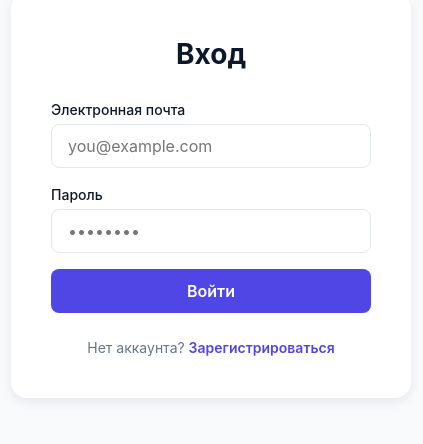
Test case: Login page › shows error message on invalid credentials
The width and height of the screenshot is (423, 444).
Type "test@test.com" into the field labelled "Электронная почта". click: [211, 146]
box: [51, 124, 371, 168]
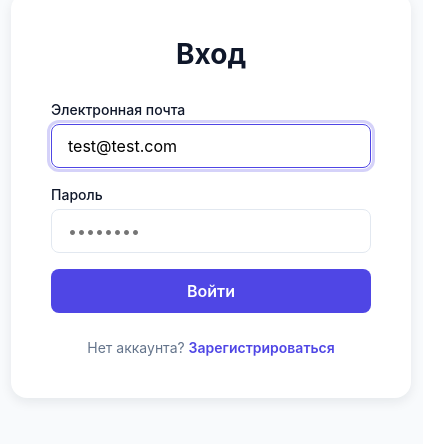
Type "wrongpass" into the password field labelled "Пароль". click: [211, 230]
box: [51, 208, 371, 252]
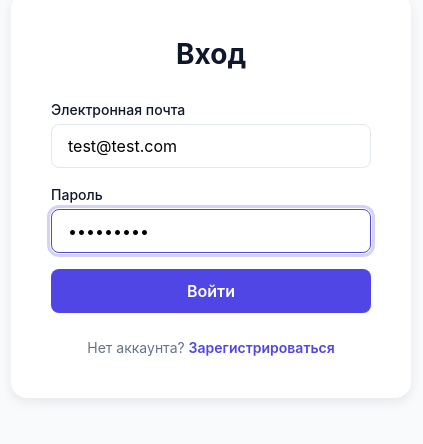
Click the button "Войти". click: [211, 290]
box: [51, 268, 371, 312]
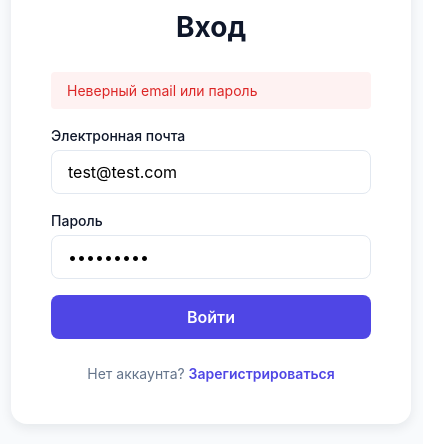
Check: the text "Неверный email или пароль" is shown, box [51, 72, 371, 109]
